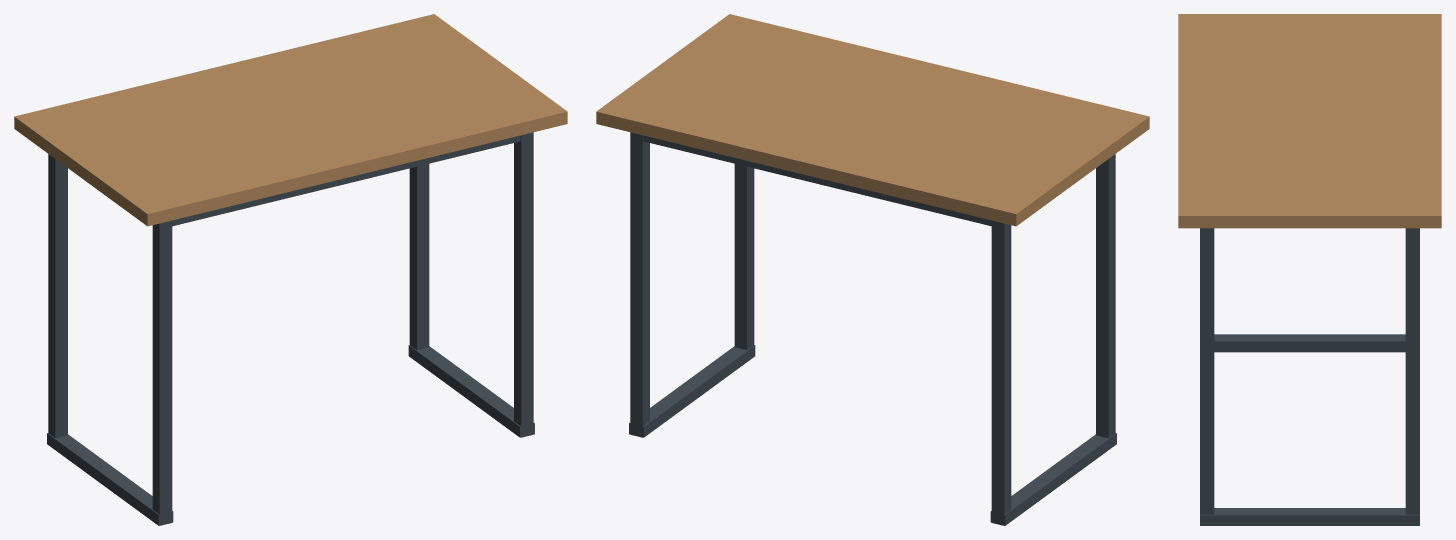
Rendered from workDesk-3.glb.
3 views of the same model, side by side, from view 1: azimuth 30°, elevation 25°; view 2: azimuth 150°, elevation 25°; view 3: azimuth 270°, elevation 25° (orthographic).
Visible parts, largest first — view 1: workDesk:3:editor; view 2: workDesk:3:editor; view 3: workDesk:3:editor.
Part boxes in pixels (x1,y1,x2,y2): workDesk:3:editor: (14, 14, 567, 525); workDesk:3:editor: (596, 14, 1149, 525); workDesk:3:editor: (1178, 14, 1441, 525).
Bounding box in the file's own units: 1 × 0.74 × 0.55.
